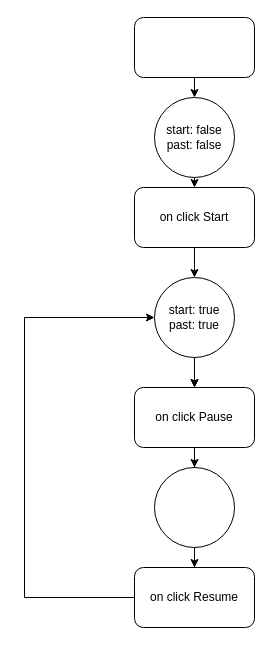
Image size: 272x645. Some labels were removed from this diagram. The shapes that lost their labels are listed below. From the top down, each one's centre as x and y in pixels, then its label:
At pixel 194 47: "on click reset".
At pixel 194 507: "start: false past: true".
